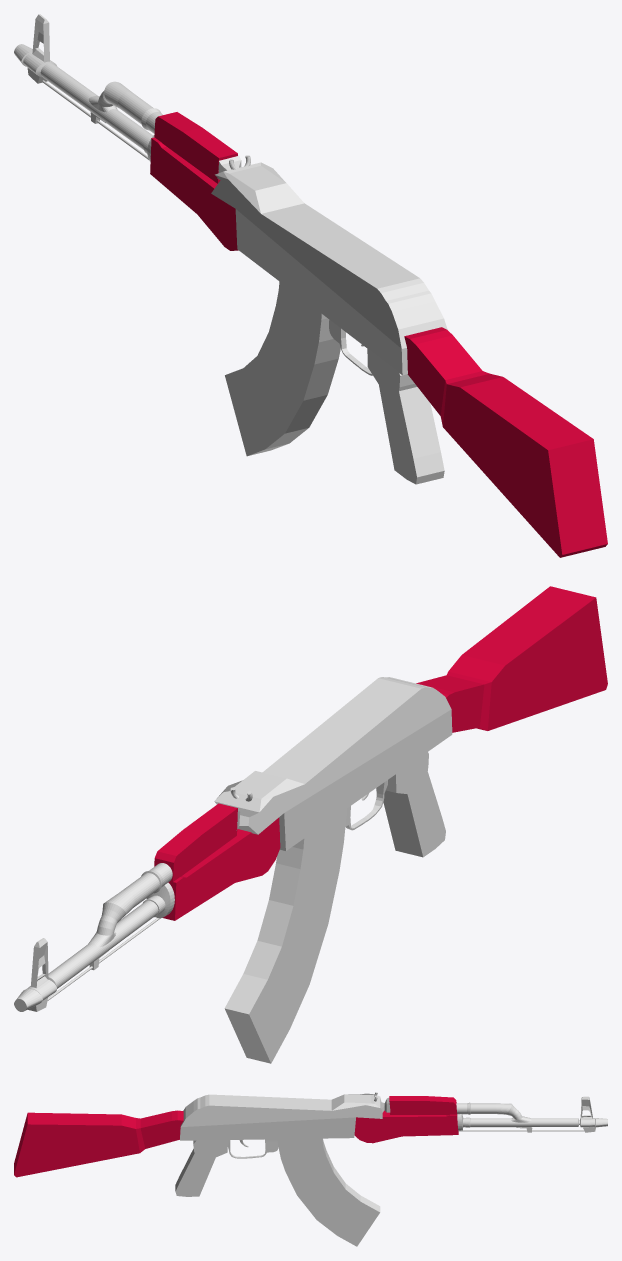
The picture shows the model from 3 angles, top to bottom: view 1: azimuth 30°, elevation 25°; view 2: azimuth 150°, elevation 25°; view 3: azimuth 270°, elevation 25°; orthographic projection. The views are drawn at different scales.
Visible parts, largest first — view 1: Cube.001, Cube.004, Cube.003, Cube.002, Cylinder; view 2: Cube.001, Cube.004, Cube.003, Cylinder, Cube.002; view 3: Cube.001, Cube.004, Cube.003, Cylinder, Cube.002.
Part boxes in pixels (box(x1,y1,x2,y2)): Cube.001: box(150, 112, 607, 557); Cube.004: box(211, 155, 447, 375); Cube.003: box(225, 281, 340, 456); Cube.002: box(329, 320, 444, 484); Cylinder: box(14, 14, 162, 161); Cube.001: box(154, 586, 607, 920); Cube.004: box(214, 677, 452, 850); Cube.003: box(224, 809, 346, 1063); Cylinder: box(14, 863, 174, 1011); Cube.002: box(345, 752, 445, 857); Cube.001: box(14, 1096, 458, 1177); Cube.004: box(180, 1092, 390, 1140); Cube.003: box(277, 1138, 380, 1246); Cylinder: box(456, 1096, 607, 1132); Cube.002: box(175, 1139, 278, 1196).
Size of the model in its own units: 44.28 by 247 by 892.
